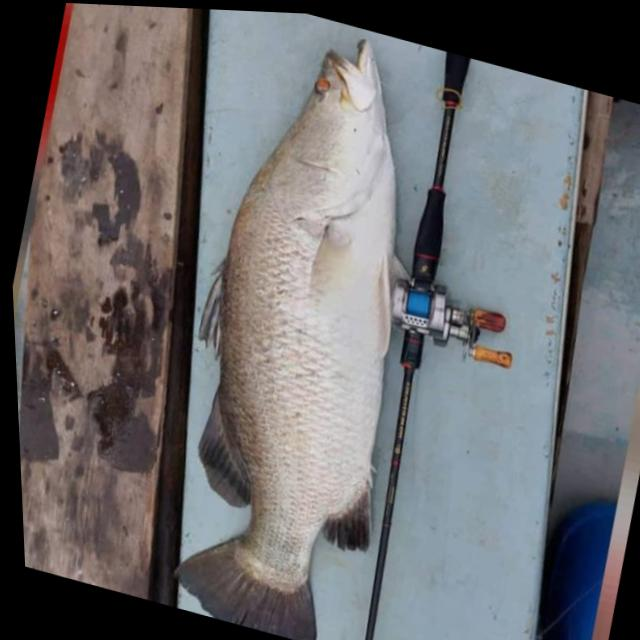Seabass: (119, 5, 491, 640)
